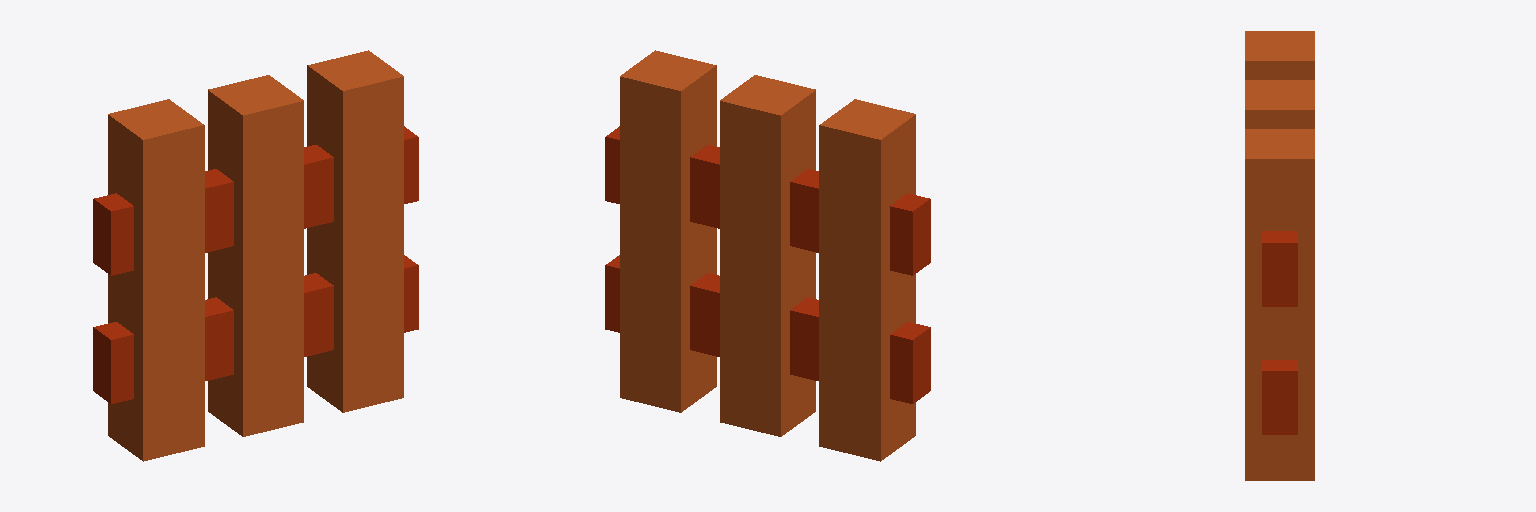
3 views of the same model, side by side, from view 1: azimuth 30°, elevation 25°; view 2: azimuth 150°, elevation 25°; view 3: azimuth 270°, elevation 25° (orthographic).
Visible parts, largest first — view 1: 立方体.004; view 2: 立方体.004; view 3: 立方体.004.
Part boxes in pixels (x1,y1,x2,y2): 立方体.004: (93, 50, 418, 461); 立方体.004: (605, 50, 930, 461); 立方体.004: (1245, 31, 1314, 480).
Size of the model in its own units: 2 by 2 by 0.4.
1 materials, 1 textured.